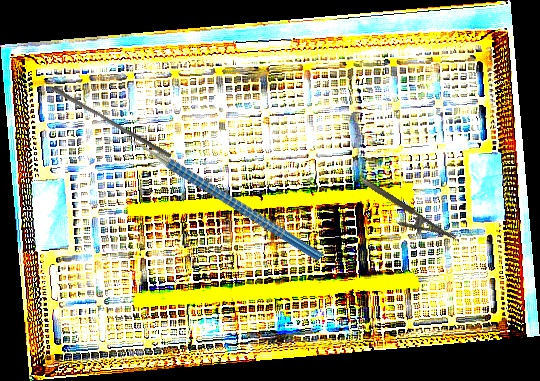Chopper: (105, 79, 325, 317)
Needle Holder: (353, 176, 457, 255)
Pusher: (49, 85, 175, 159)
